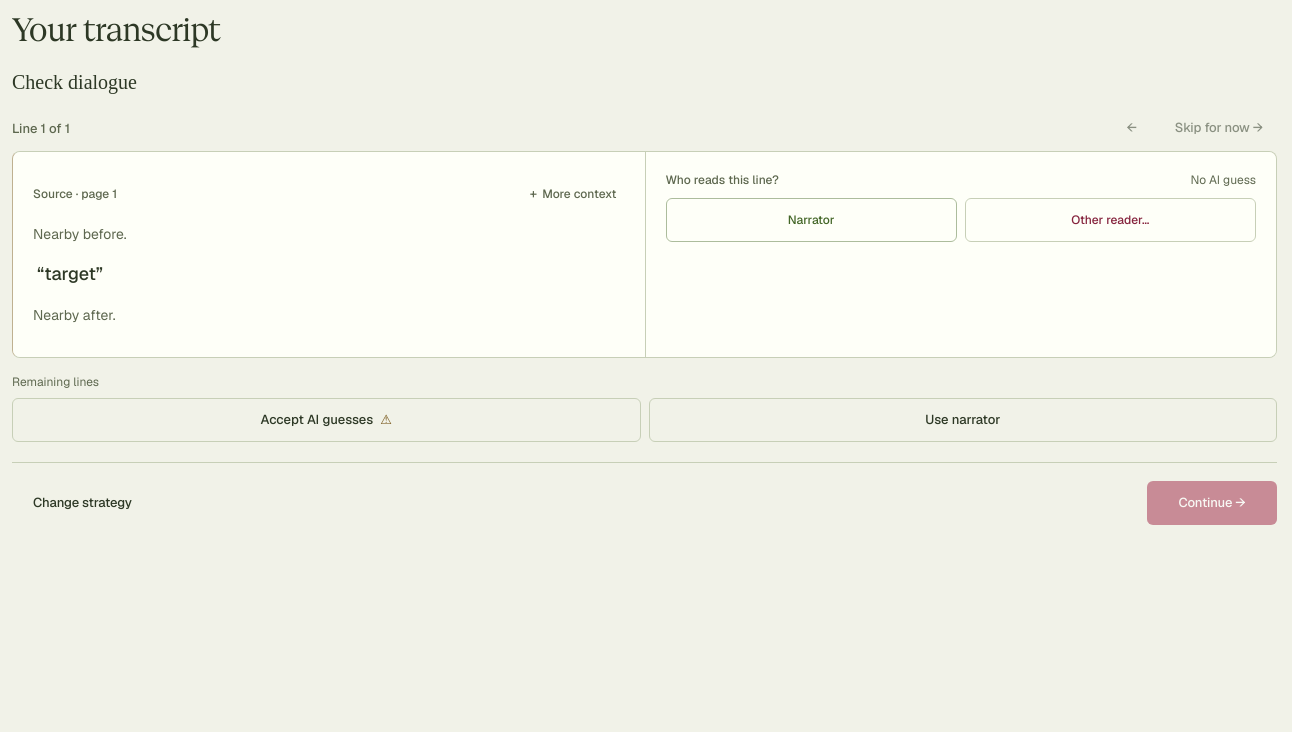
Test: required dialogue review › preserves full source context on demand and returns editor focus on Escape
Expected: the text "Full before." is not shown
Click the button with aria-label "Show more source context". click: (573, 194)
box: [522,172,624,216]
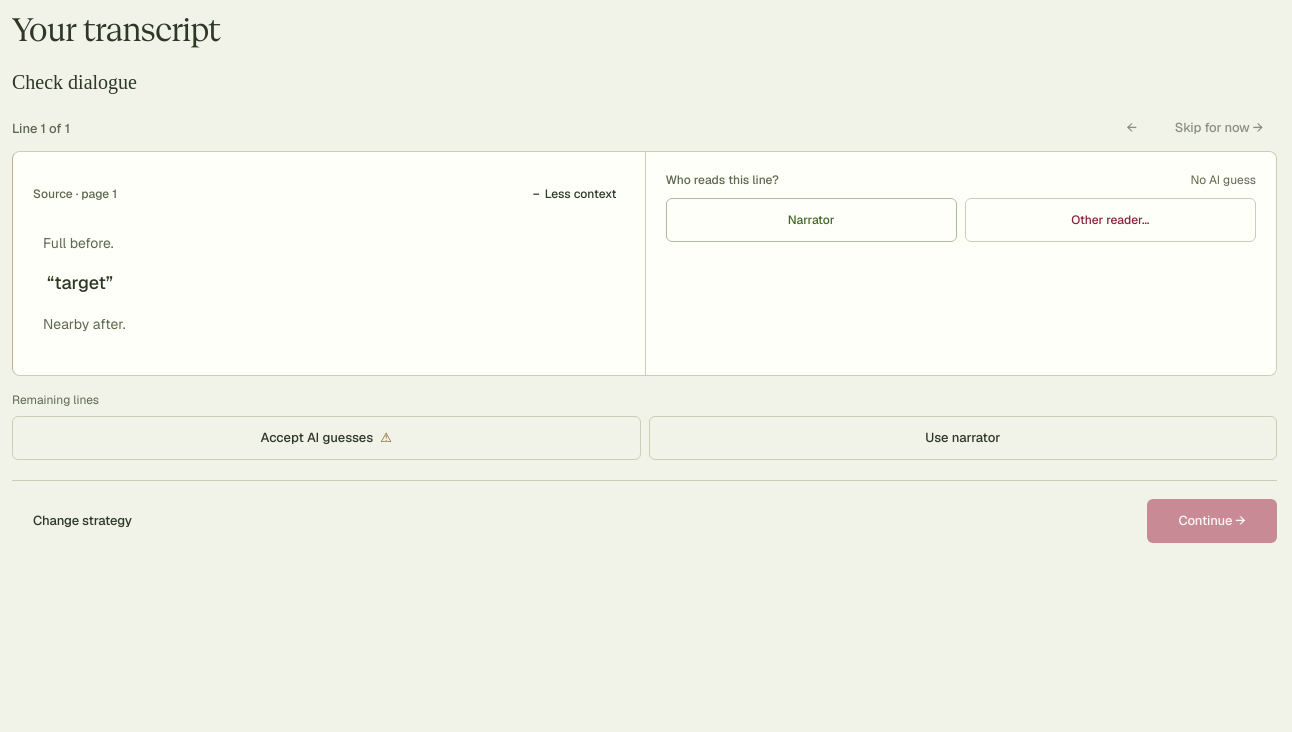
Expected: the text "Nearby after." is shown, [43,315,126,333]
Expected: the text "Full before." is shown, [43,234,114,252]
Click the button with aria-label "Choose another character". click: (1110, 220)
box: [965,198,1256,242]
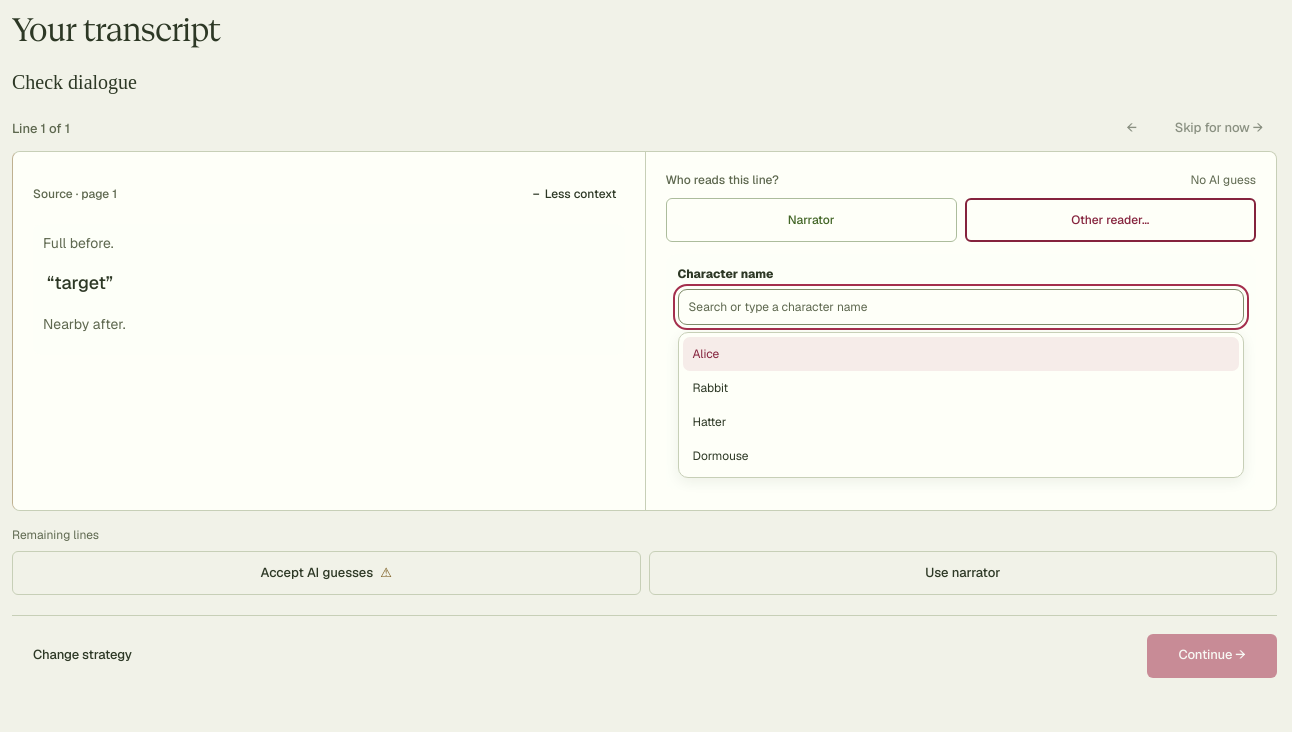
Press Escape in the dropdown, box [678,289,1244,325]
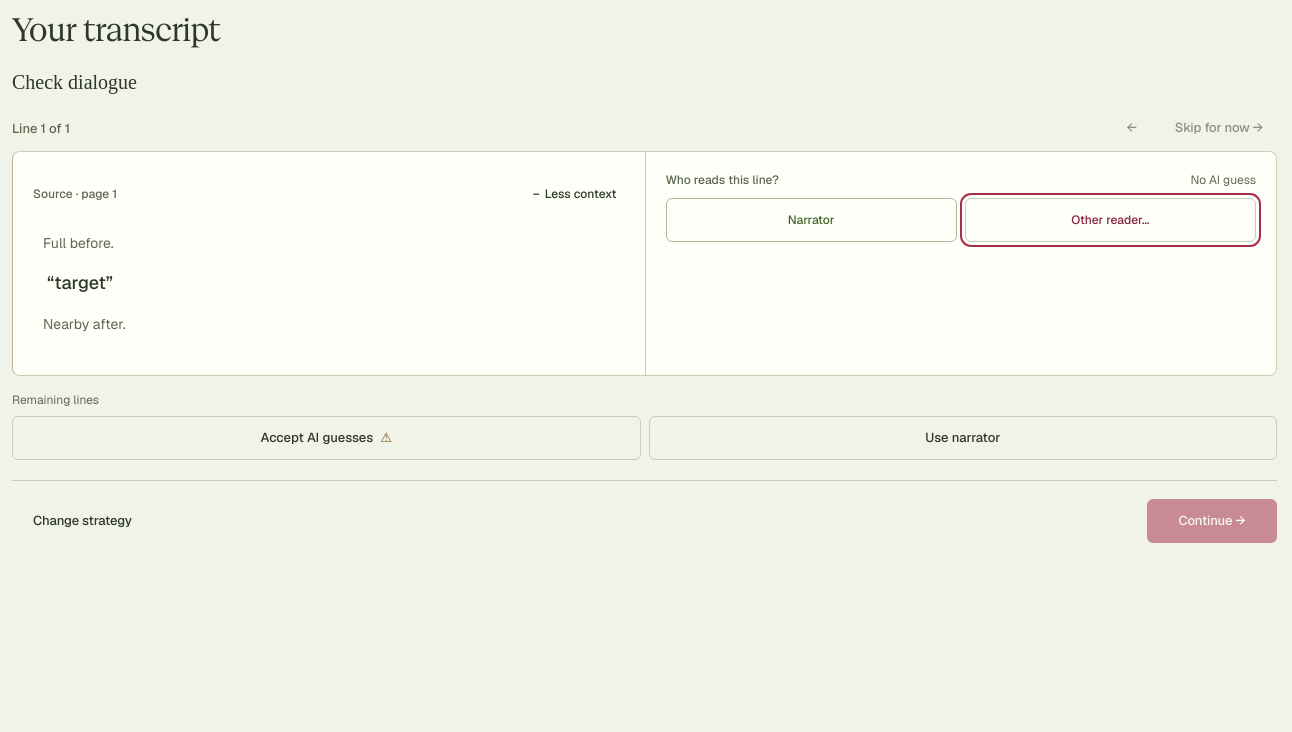
Click the button with aria-label "Choose Narrator". click: (811, 220)
box: [666,198,957,242]
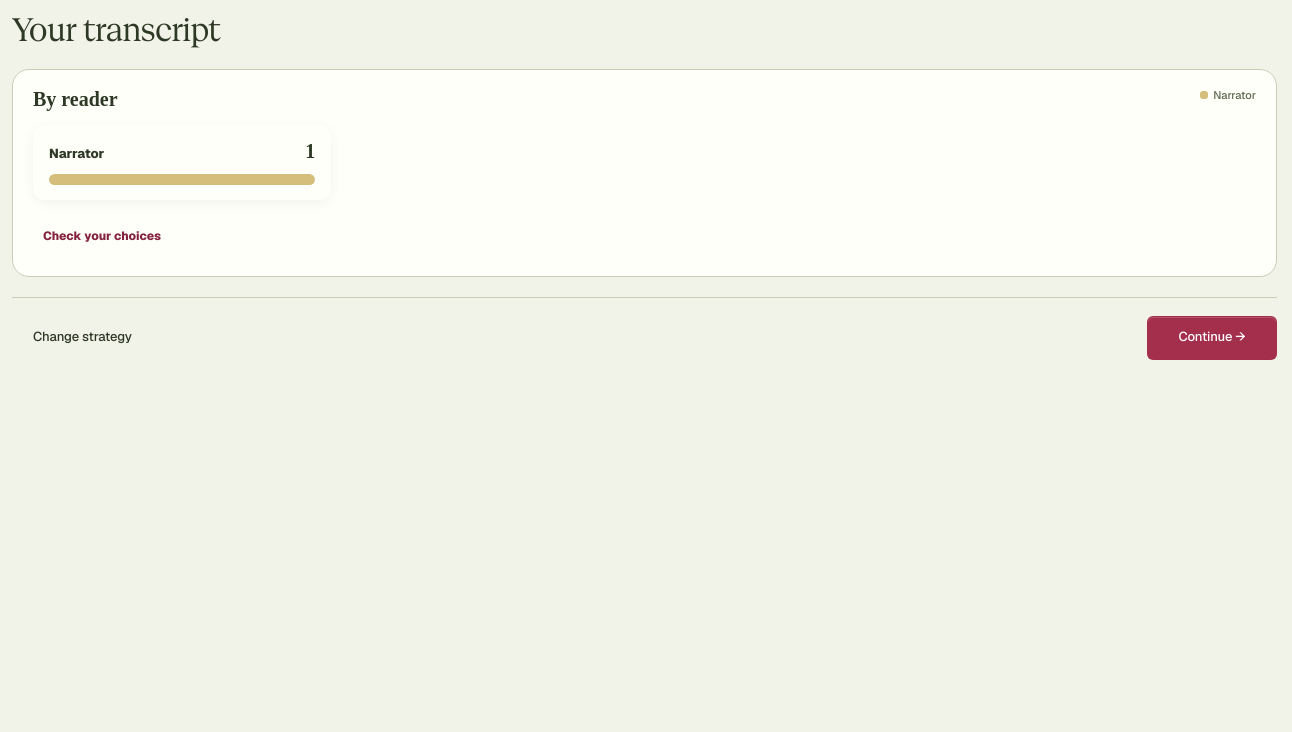
Expected: the button "Continue →" is enabled, [1147,316,1277,360]
